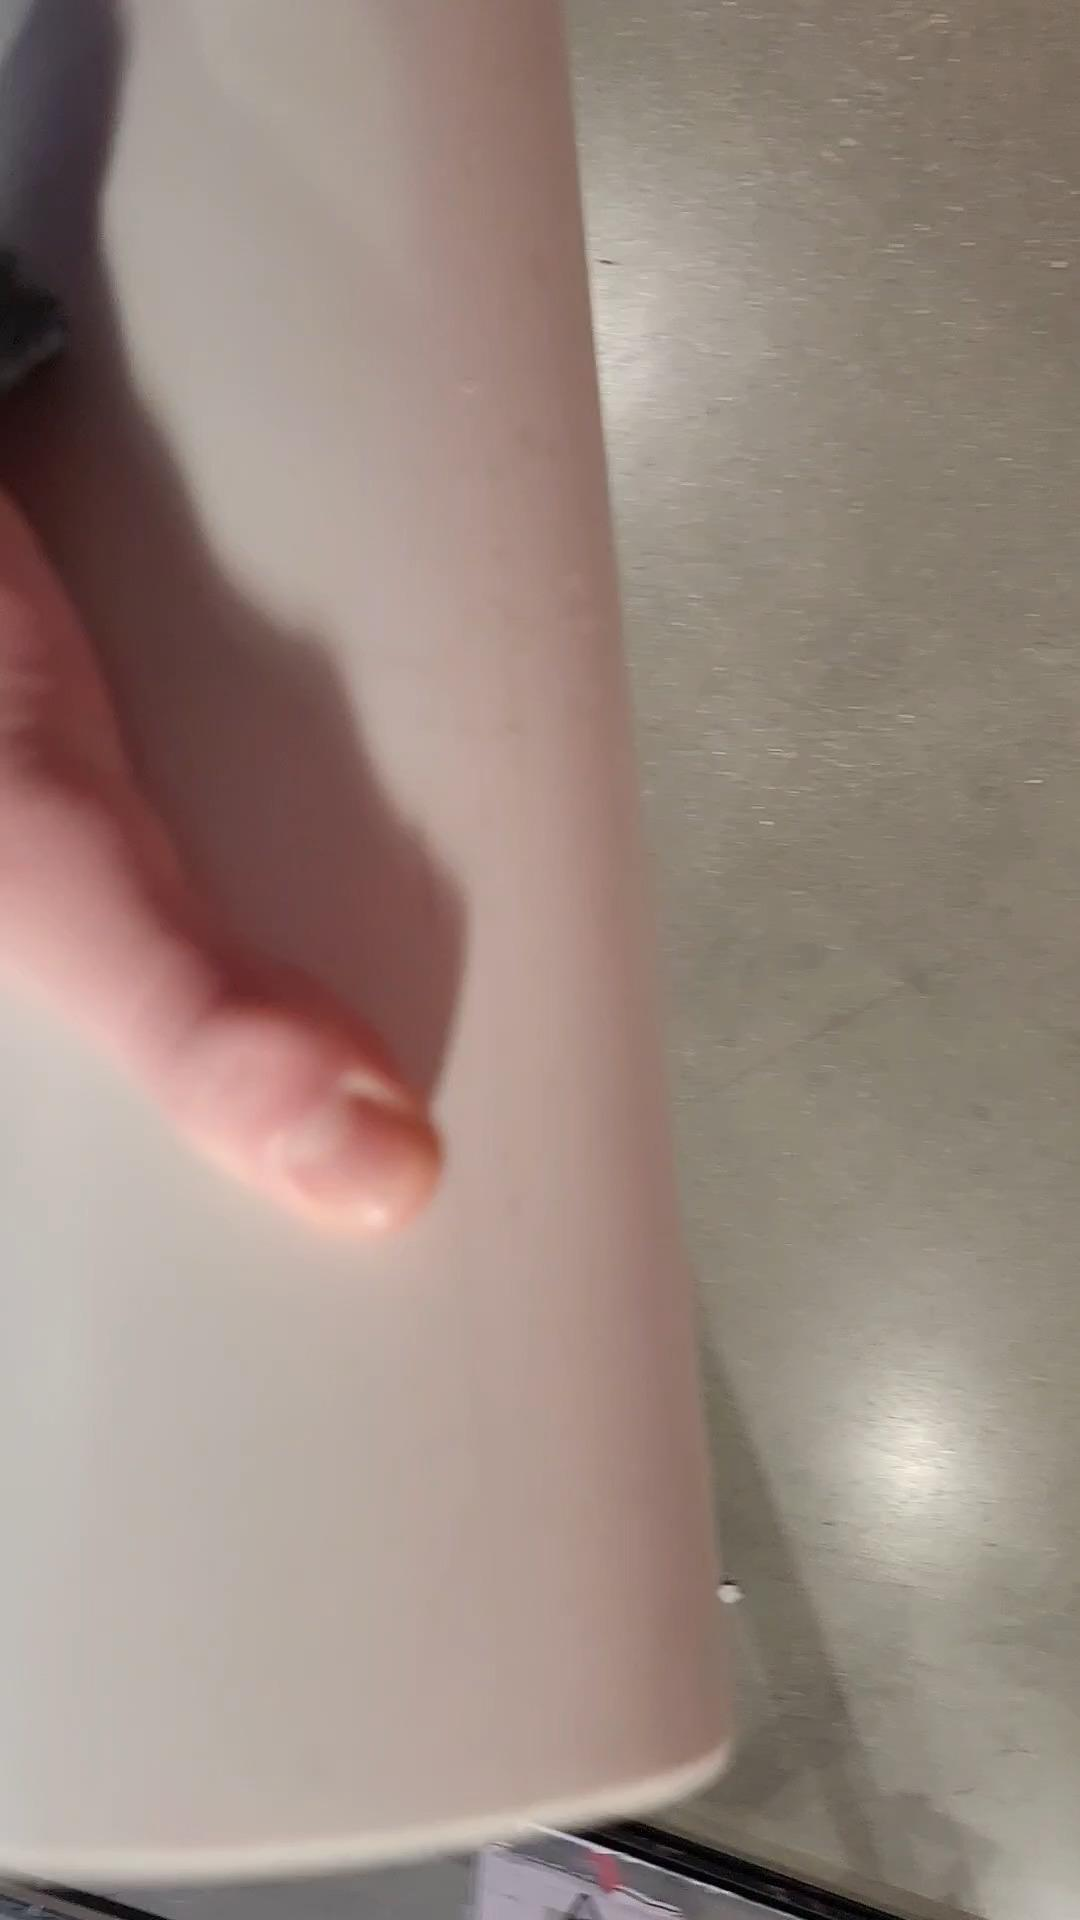coral: (0, 0, 764, 1894)
